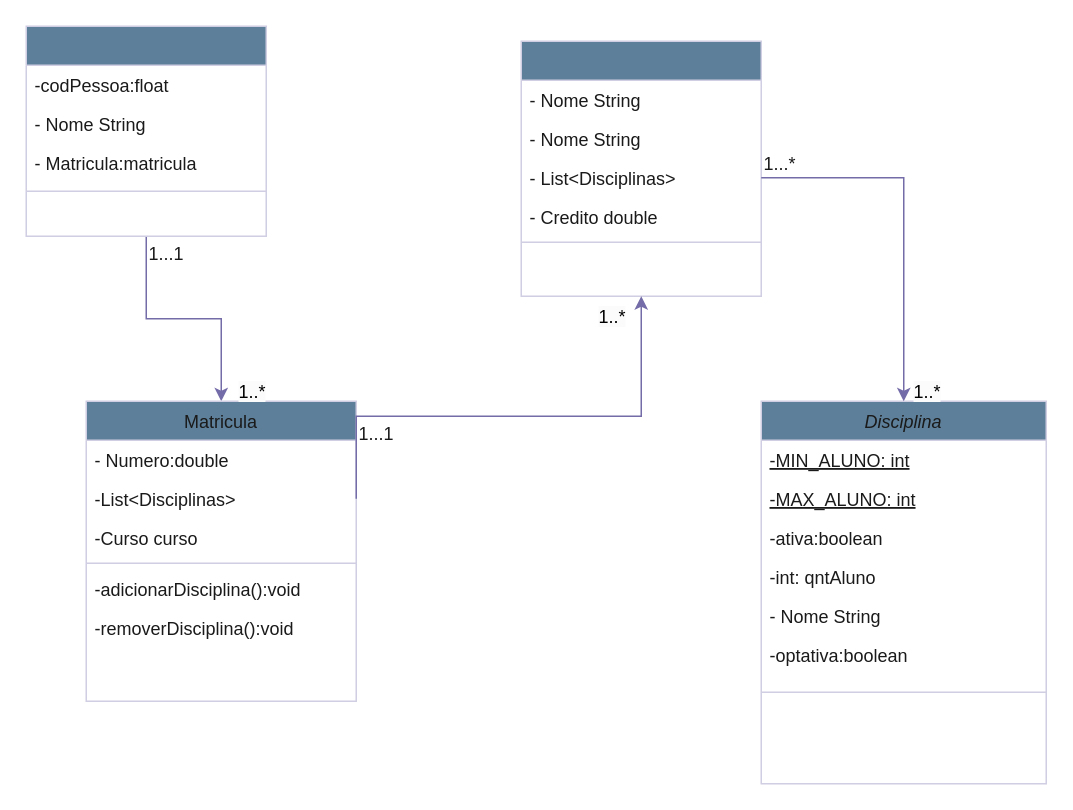
Some shapes in this 1073 by 810 pixel diagram are drawn without their labels. Here are the shapes that lost their labels. From the top down, the box of each, then its label:
(25, 25, 266, 236): Aluno
(520, 40, 761, 296): Curso
